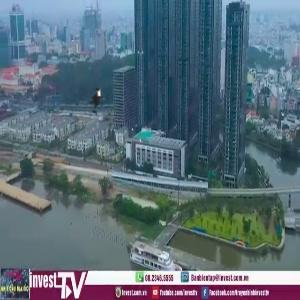drone: (78, 81, 122, 125)
